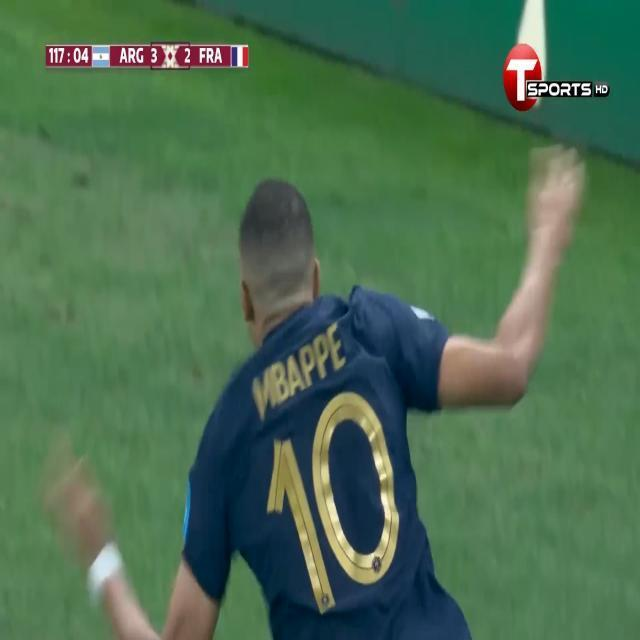player: (39, 147, 593, 640)
